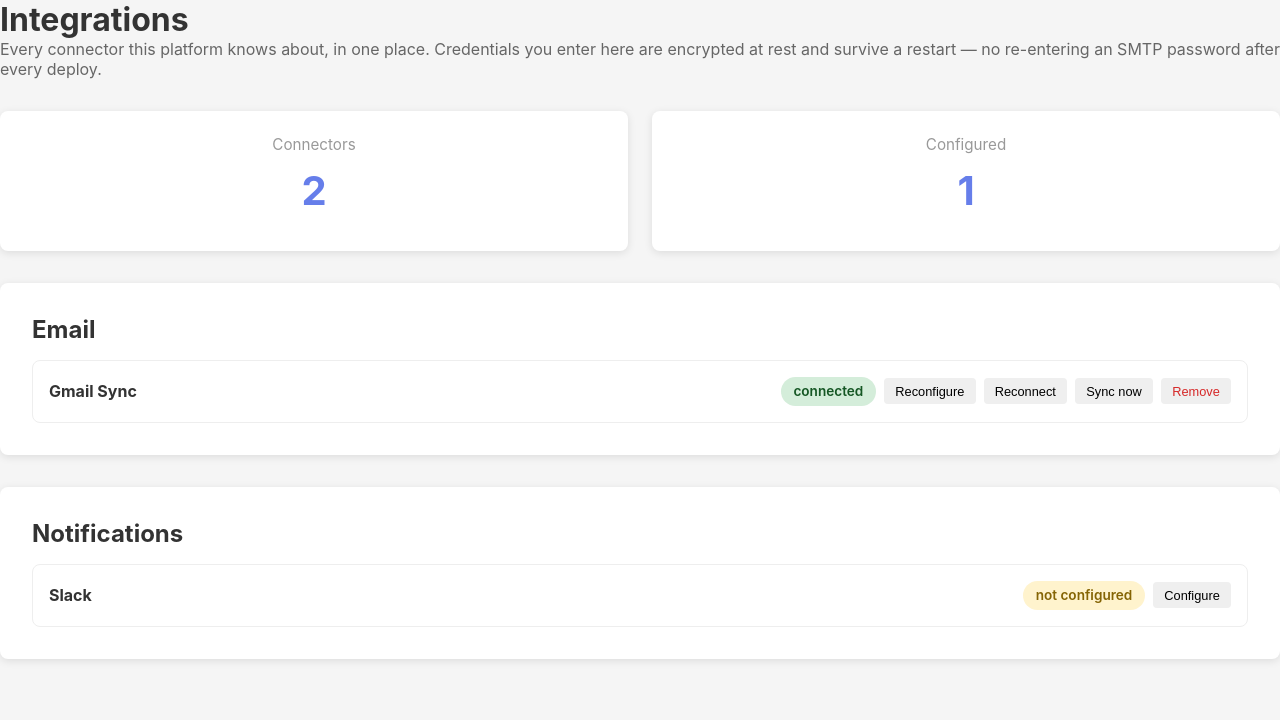
Test: Integrations.jsx Gmail surface › Gmail sync parses the top-level backend payload
Click the button "Sync now" at (1114, 391), box [1075,378,1153,404]
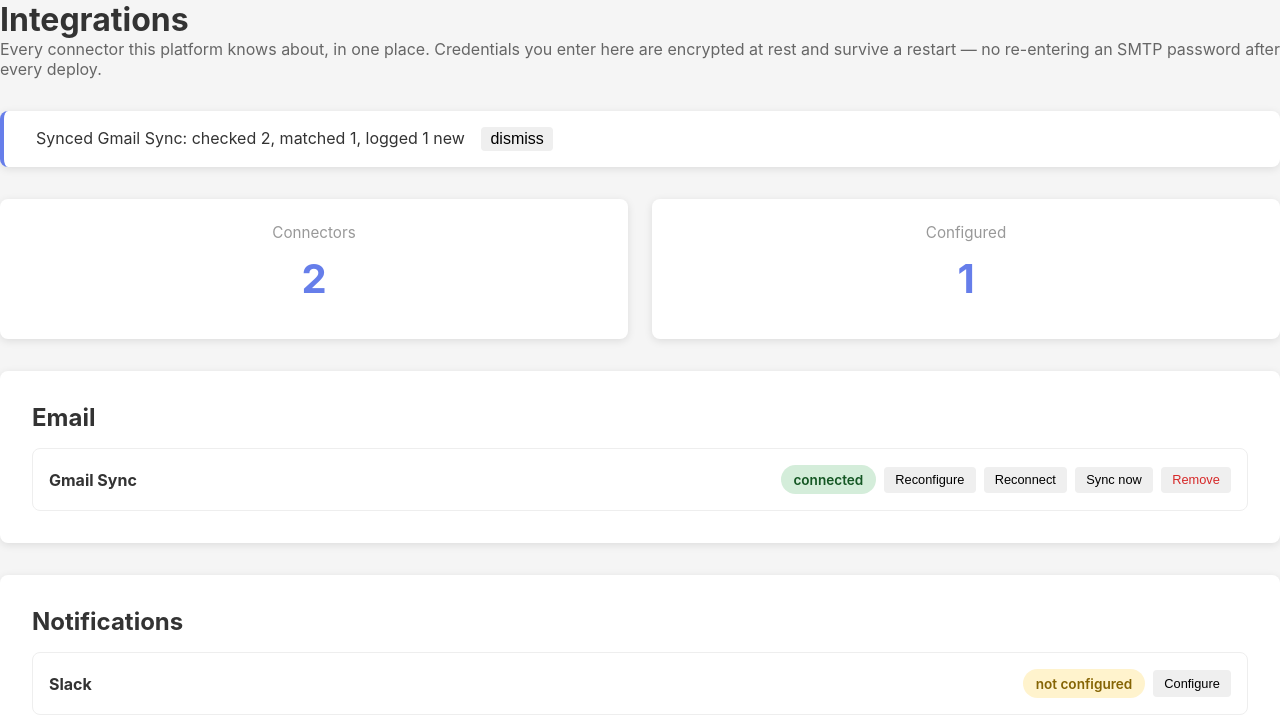
Expected: the text "checked 2, matched 1, logged 1 new" is shown, [36,128,465,148]
